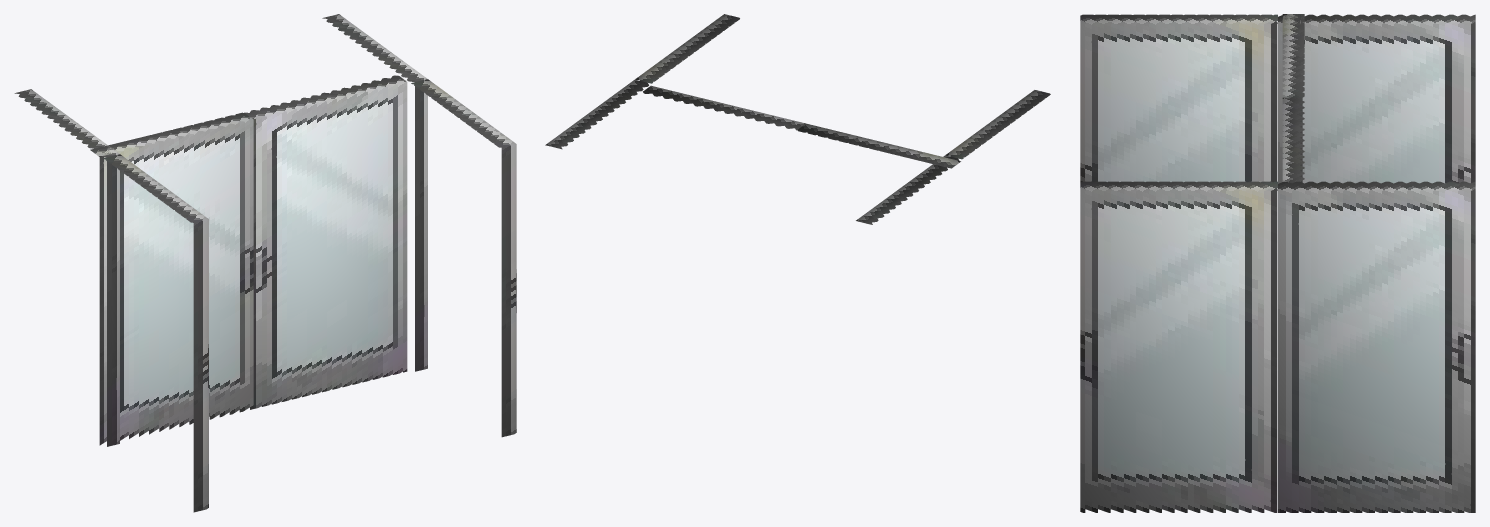
Rendered from BaseEntrance.glb.
The picture shows the model from 3 angles, left to right: view 1: azimuth 30°, elevation 25°; view 2: azimuth 150°, elevation 25°; view 3: azimuth 270°, elevation 25°; orthographic projection. The views are drawn at different scales.
Visible parts, largest first — view 1: right_1 (×2), left_1 (×2), left, right; view 2: right_1 (×2), left_1 (×2), right, left; view 3: right_1 (×2), right, left, left_1 (×2).
Boxes of the visible parts, x1,y1,x2,y2 form: right_1 (×2): (244, 14, 427, 408); left_1 (×2): (14, 89, 253, 446); left: (103, 154, 208, 512); right: (411, 79, 516, 437); right_1 (×2): (545, 79, 805, 149); left_1 (×2): (797, 123, 960, 224); right: (635, 14, 739, 83); left: (946, 90, 1050, 159); right_1 (×2): (1278, 97, 1475, 512); right: (1080, 181, 1277, 512); left: (1080, 14, 1277, 188); left_1 (×2): (1278, 14, 1475, 183).
Bounding box in the file's own units: 2.12 × 1.8 × 2.
Materials: 1 (1 with a texture image).
